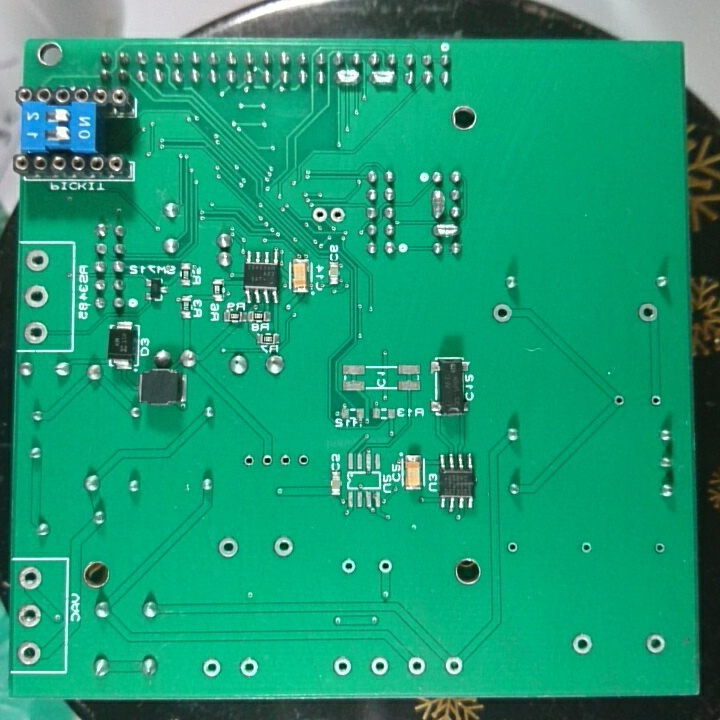F: (15, 563, 45, 593), (16, 600, 44, 630), (15, 639, 42, 667), (22, 283, 50, 310), (22, 248, 51, 274), (635, 300, 662, 326), (270, 534, 297, 560), (22, 319, 48, 346), (569, 632, 597, 657), (215, 535, 240, 563), (643, 631, 668, 658), (237, 655, 262, 680), (405, 653, 429, 678), (329, 655, 354, 679), (442, 653, 466, 676), (368, 654, 391, 678), (491, 302, 516, 324), (200, 656, 222, 680), (375, 556, 397, 577), (328, 203, 347, 227), (339, 556, 360, 577), (577, 538, 596, 559), (503, 536, 521, 558), (308, 205, 328, 224), (651, 538, 669, 559), (240, 449, 258, 470), (294, 451, 311, 470), (609, 390, 626, 408), (276, 451, 294, 468), (259, 451, 276, 469), (648, 391, 662, 409)
P: (366, 68, 399, 91), (431, 220, 462, 242), (333, 67, 362, 89), (428, 186, 446, 221)
